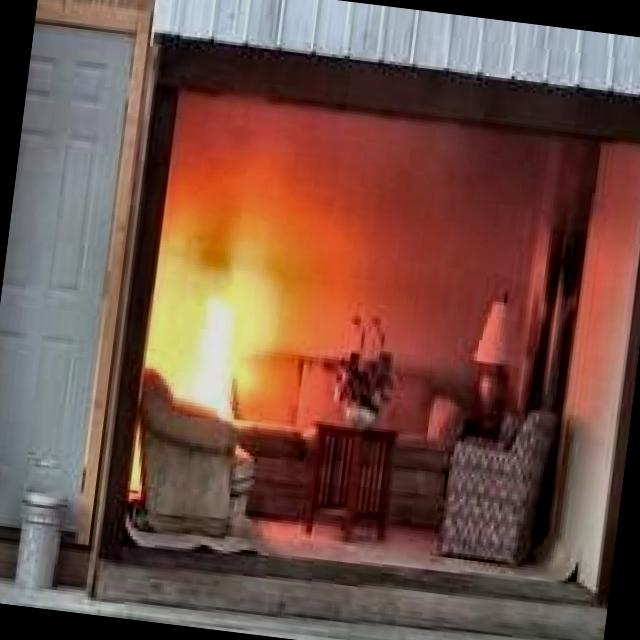fire: (152, 238, 276, 396)
